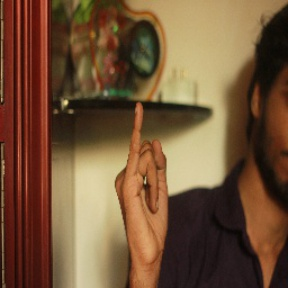I: (112, 96, 183, 259)
